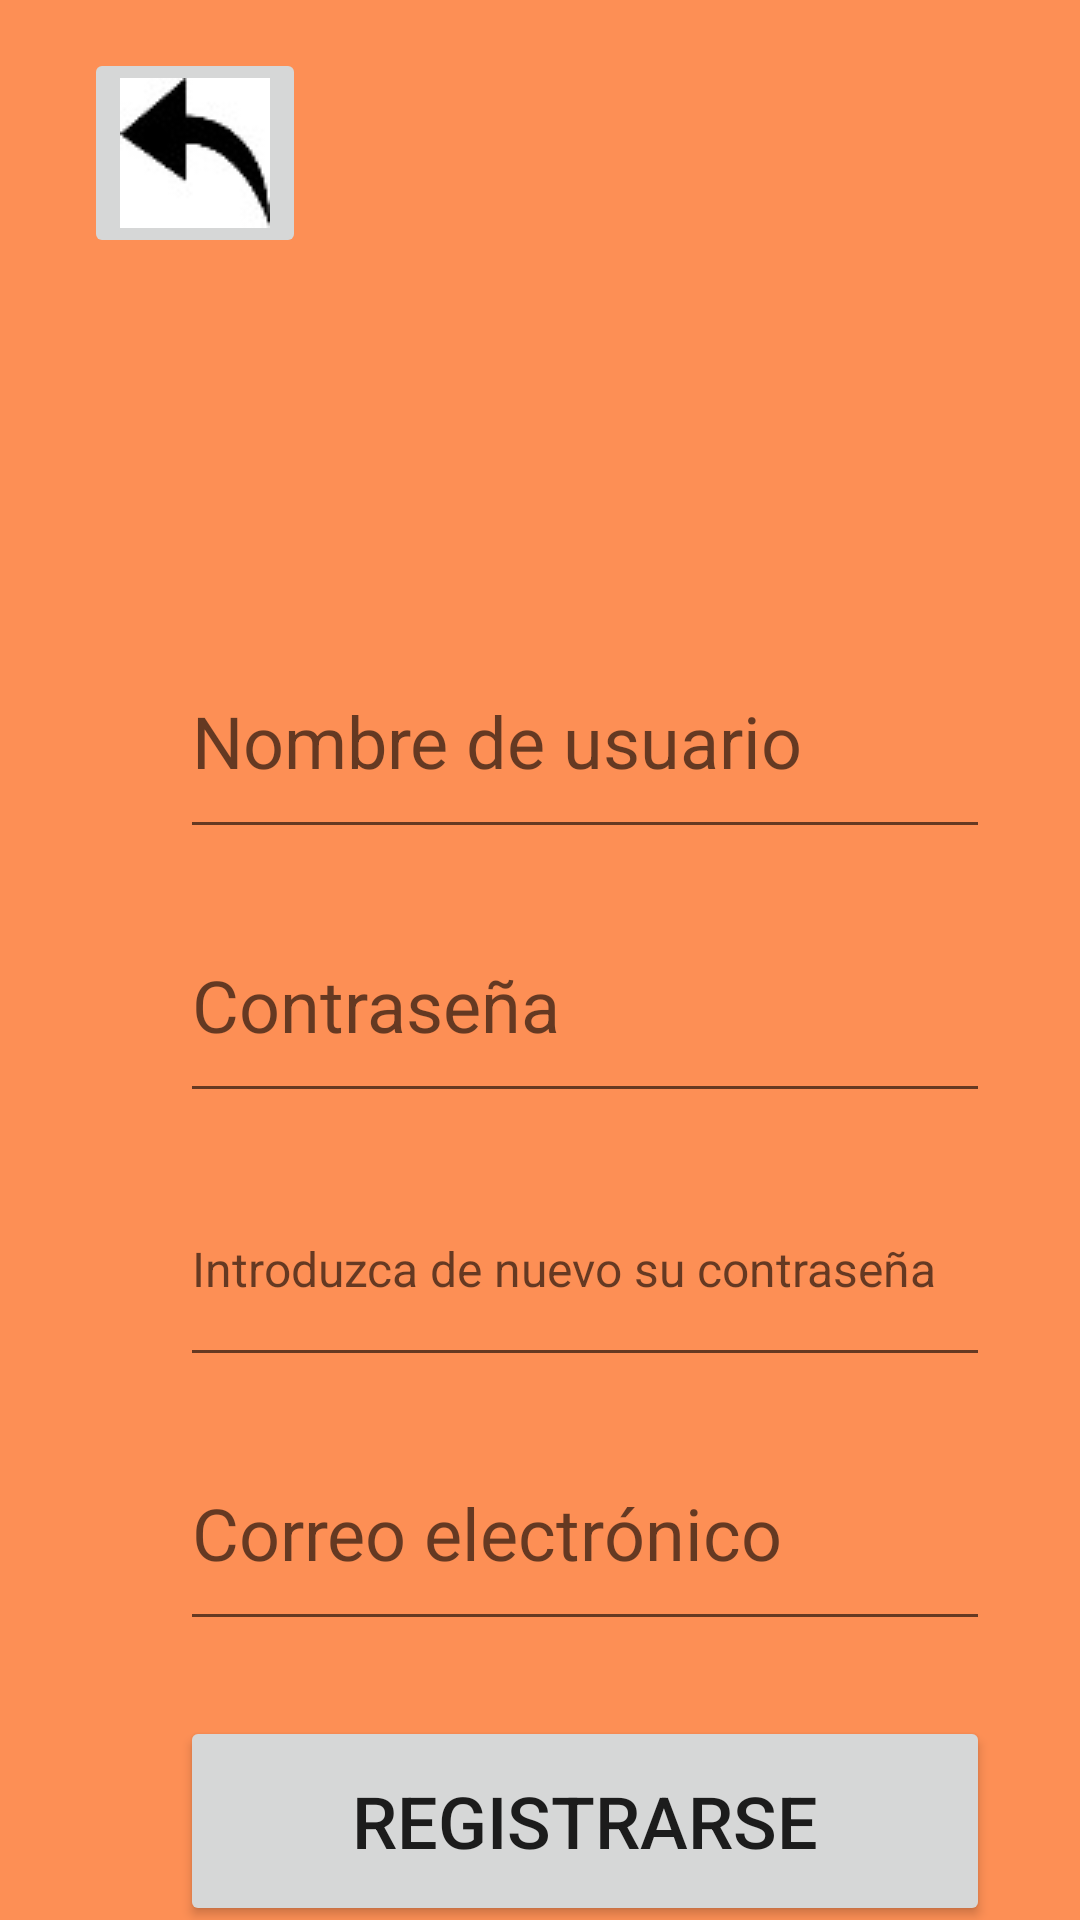

Locate icon controls on the screen. Image size 1080px×1920px, boxes as (x1, y1, x2, y2).
volver: (96, 66, 294, 240)
